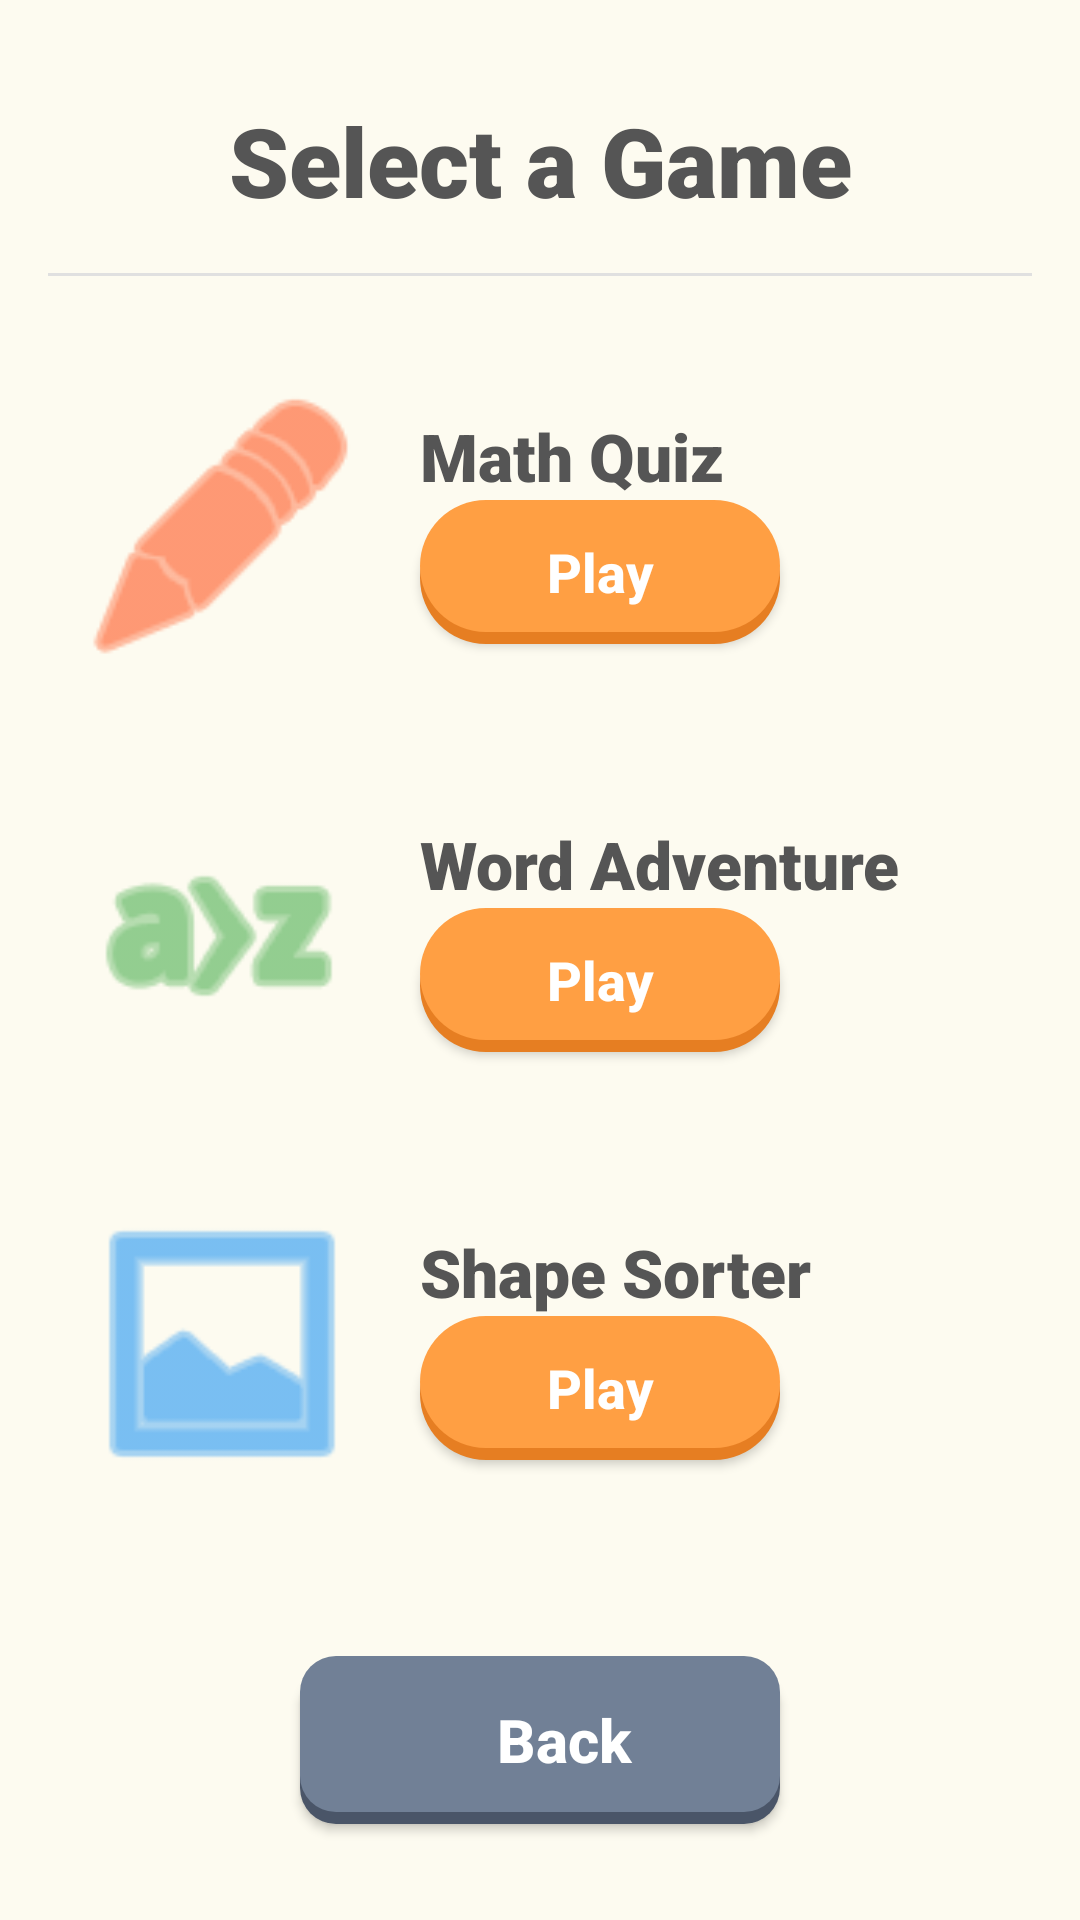

Point at icon controls on the screen. Image size 1080w x 1920h, points as point (x, y).
edit: point (221, 526)
gallery: point (222, 1344)
sort alphabetically: point (219, 936)
